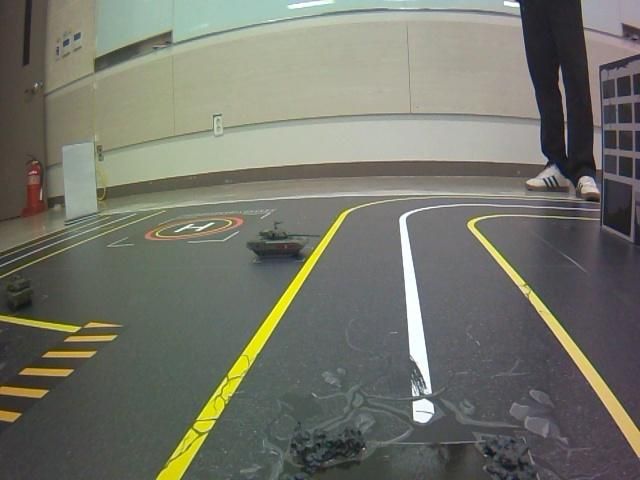Tank: (246, 221, 321, 261), (0, 275, 40, 315)
